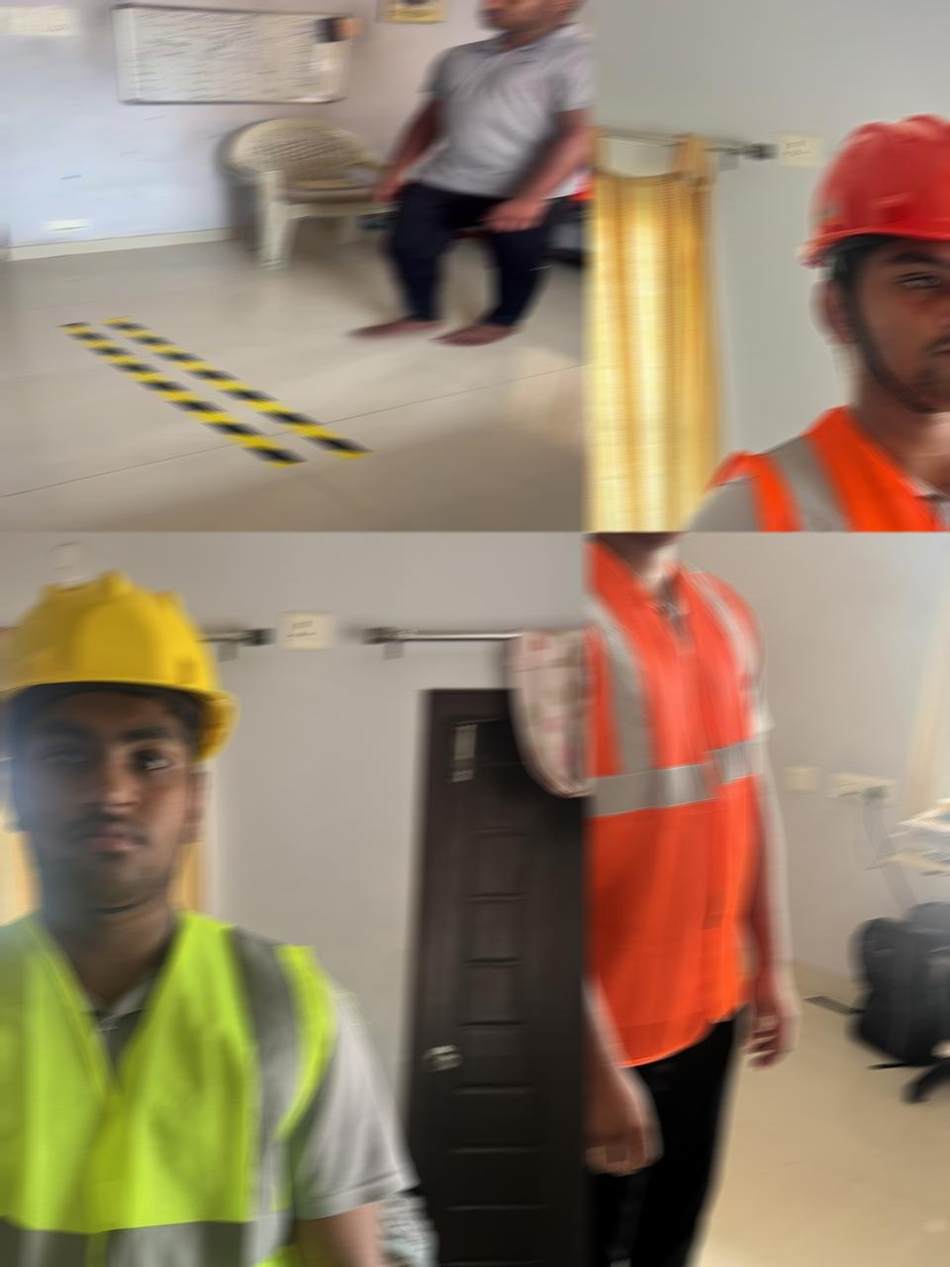BorderLine: (58, 316, 372, 467)
Helmet: (0, 570, 235, 765), (800, 114, 950, 268)
No_Helmet: (478, 0, 584, 32)
No_Vest: (411, 22, 591, 199)
Person: (0, 572, 414, 1267), (586, 532, 797, 1267), (645, 114, 950, 532), (344, 0, 590, 345)
Vest: (0, 902, 333, 1267), (586, 532, 768, 1066)
